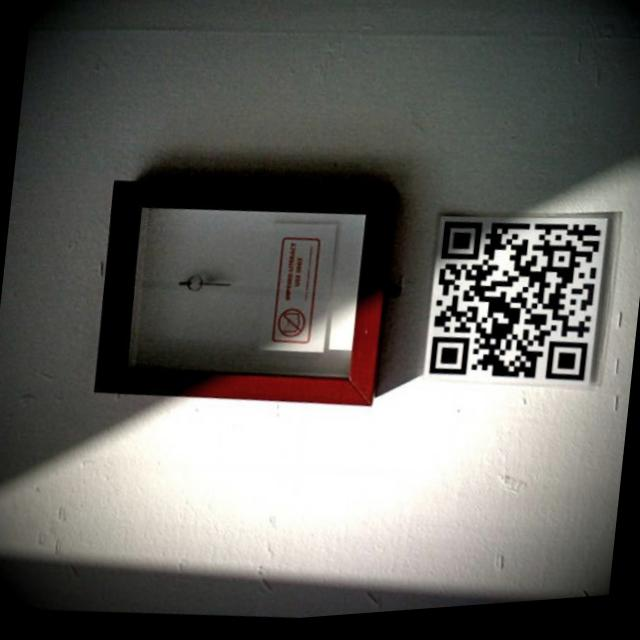qrcode: (430, 219, 601, 398)
